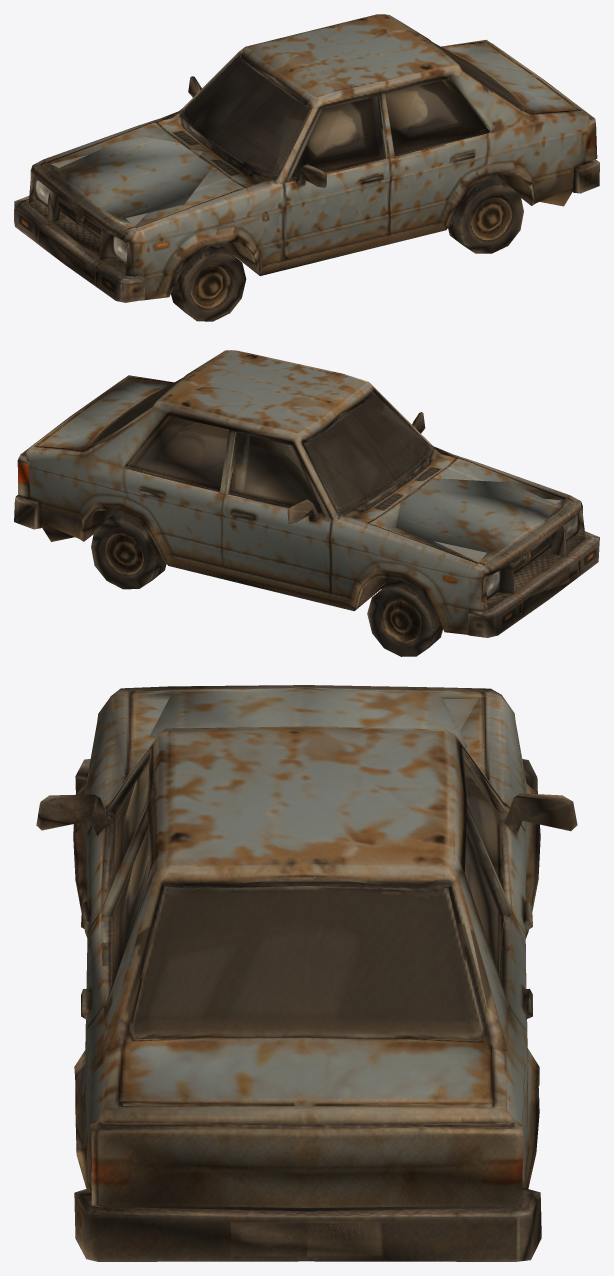
The model's file is Meshy_AI_Rustbound_Relic_0831093022_texture.fbx.
3 renders of one model, top to bottom at view 1: azimuth 30°, elevation 25°; view 2: azimuth 150°, elevation 25°; view 3: azimuth 270°, elevation 25°, orthographic. The views are drawn at different scales.
Visible parts, largest first — view 1: mesh_node; view 2: mesh_node; view 3: mesh_node.
Boxes of the visible parts, x1=… form: mesh_node: x1=14, y1=14, x2=599, y2=321; mesh_node: x1=14, y1=350, x2=599, y2=656; mesh_node: x1=36, y1=685, x2=577, y2=1261.
Size of the model in its own units: 100 by 36.33 by 48.73.
1 material, 1 textured.
